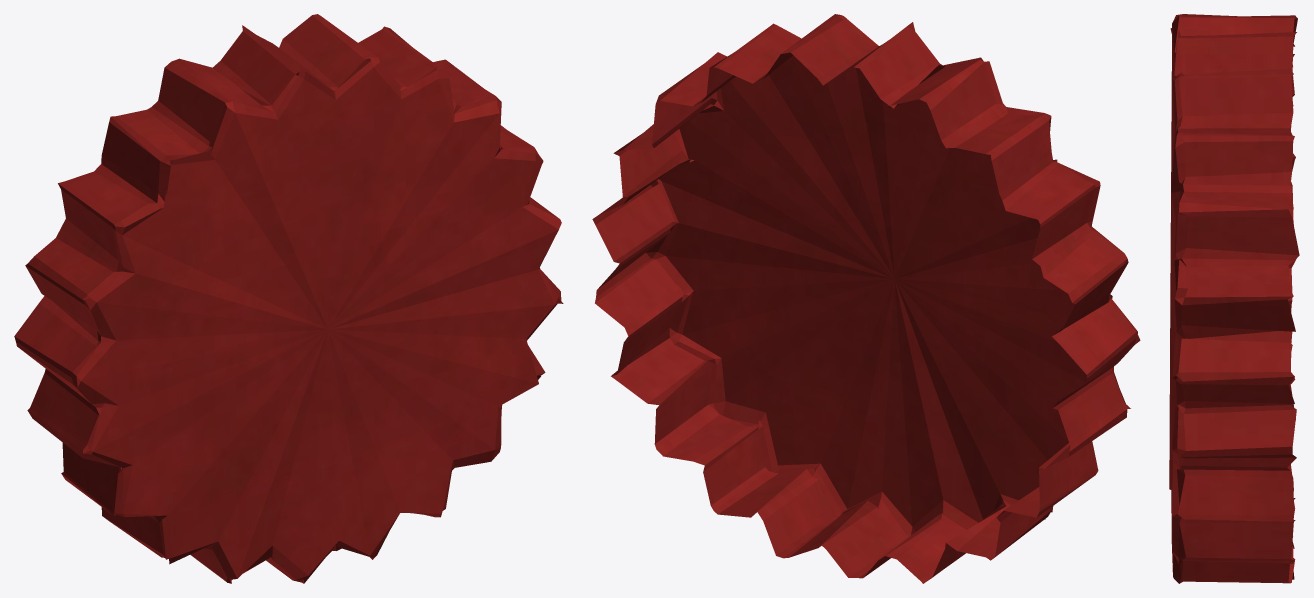
3 renders of one model, left to right at view 1: azimuth 30°, elevation 25°; view 2: azimuth 150°, elevation 25°; view 3: azimuth 270°, elevation 25°, orthographic.
Parts seen in each view (by area): view 1: kronkorken; view 2: kronkorken; view 3: kronkorken.
Part boxes in pixels (box(x1,y1,x2,y2)): kronkorken: box(14, 14, 563, 583); kronkorken: box(592, 14, 1140, 583); kronkorken: box(1169, 14, 1299, 583).
Size of the model in its own units: 0.0291 by 0.0293 by 0.00666.
Materials: 1 (1 with a texture image).
